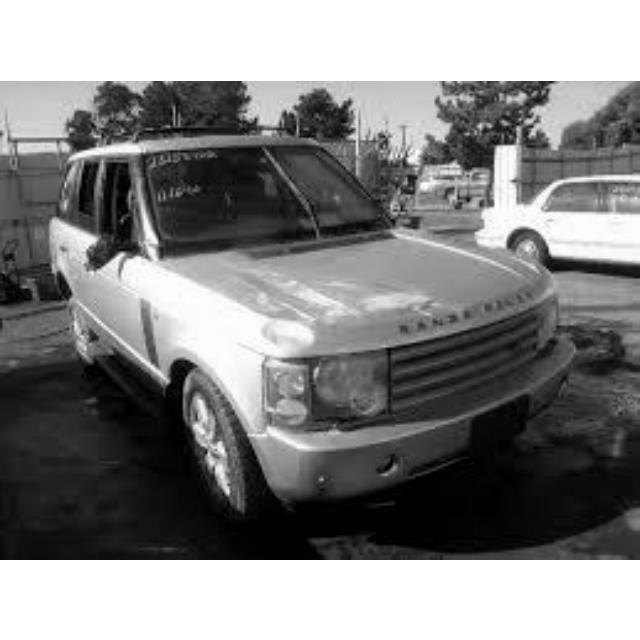Headlight-damage: (247, 355, 397, 426)
bonnet-dent: (193, 261, 447, 342)
